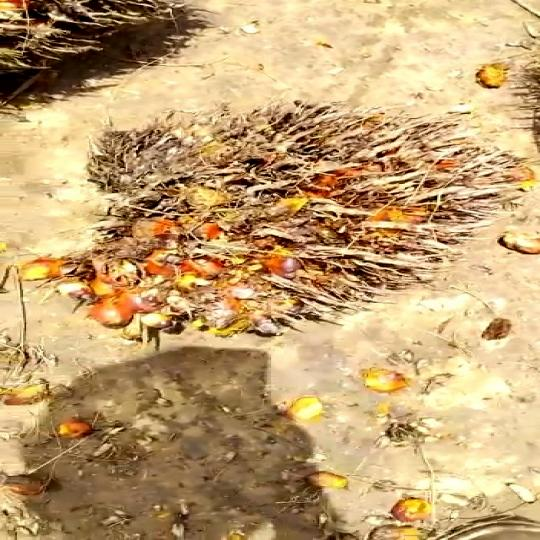terlalu masak: (4, 93, 540, 358)
